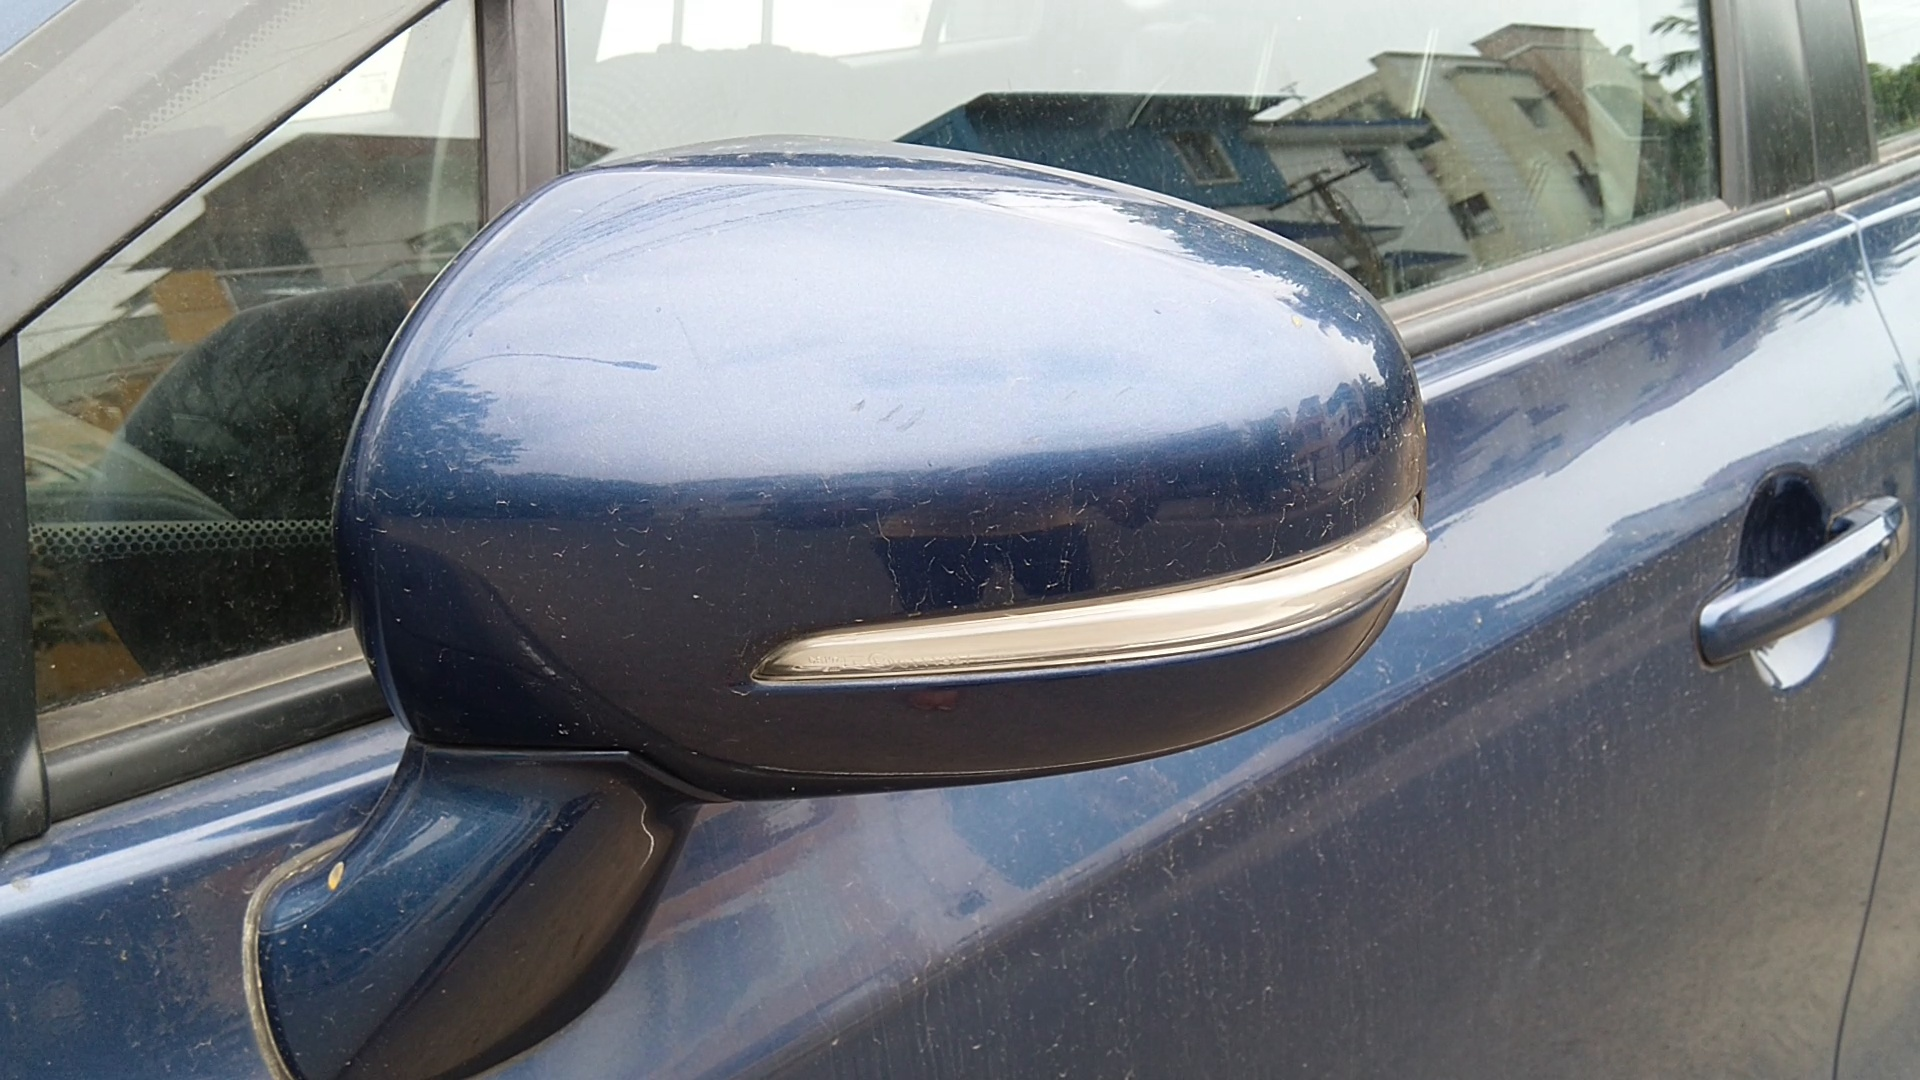ovr_mirror: (181, 82, 1494, 1080)
